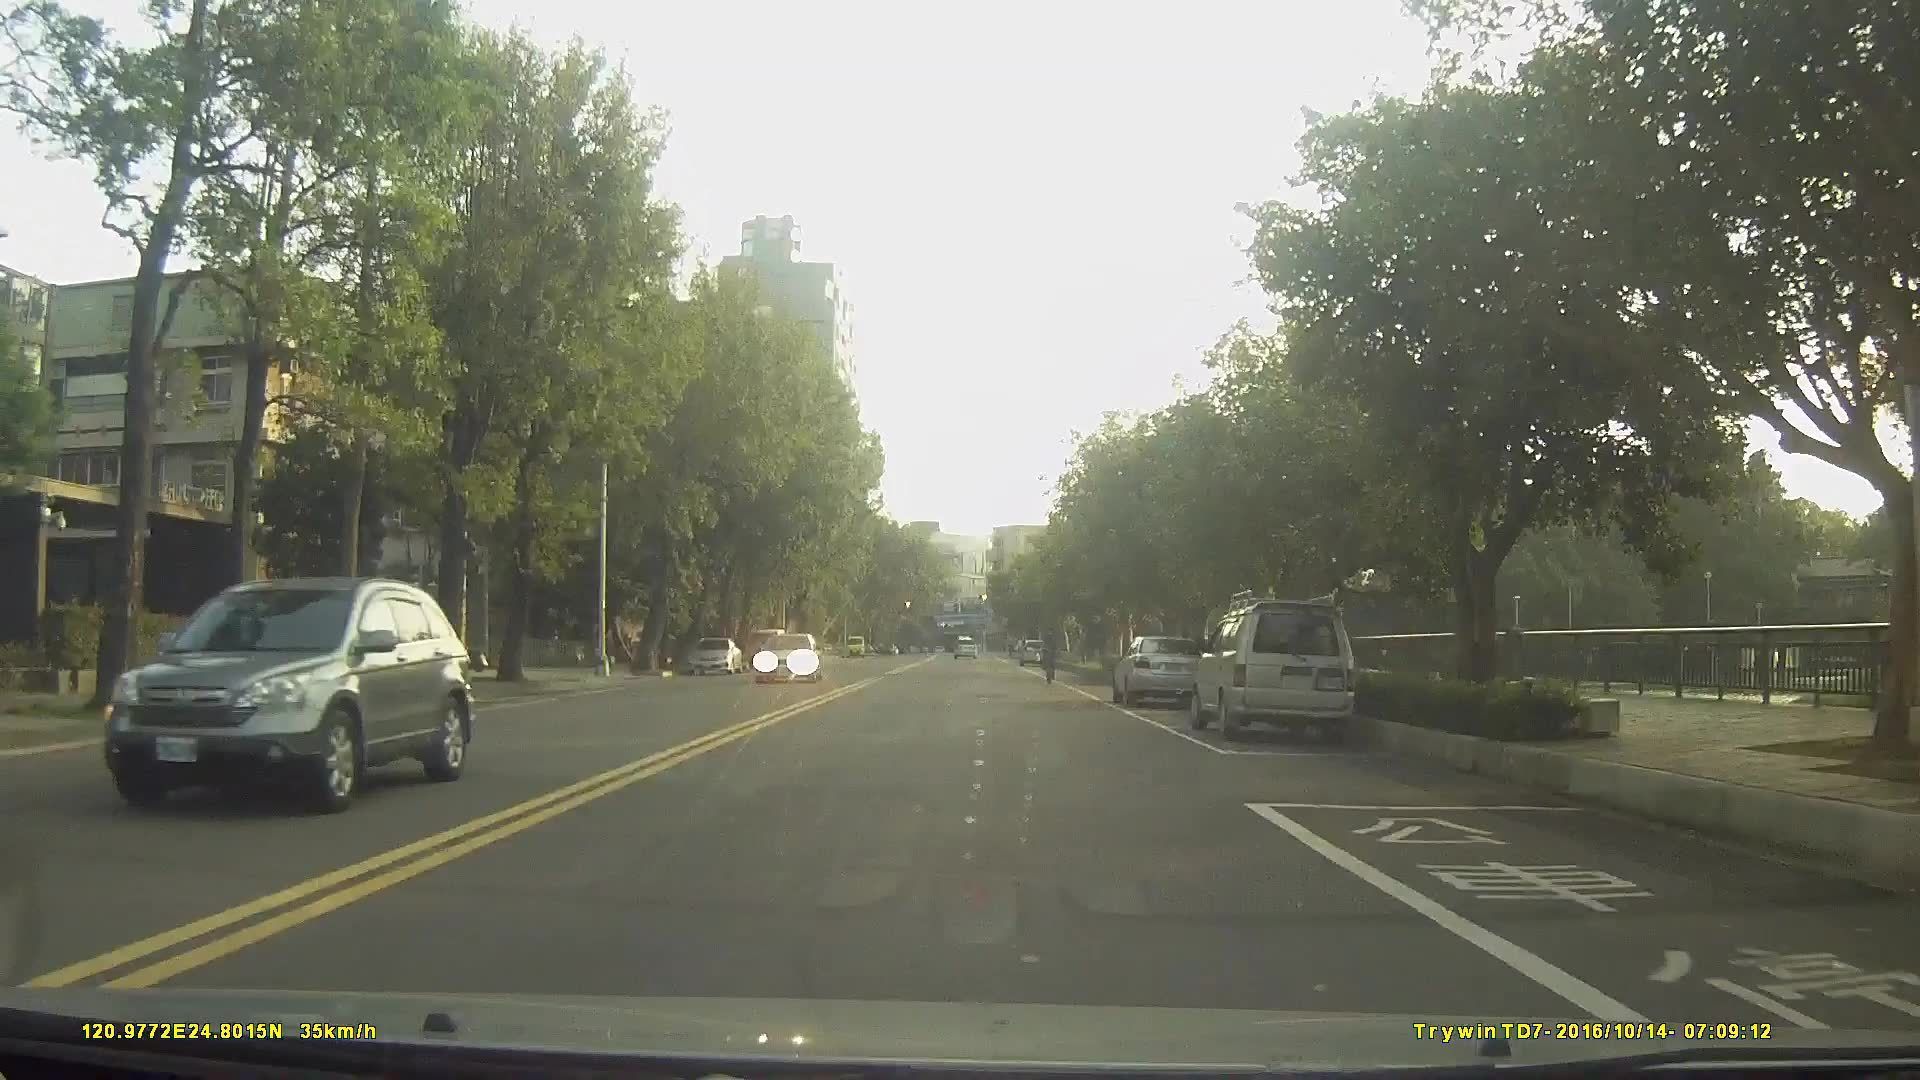rider: (1039, 627, 1060, 689)
vehicle: (98, 573, 471, 819), (1188, 599, 1358, 738), (1108, 632, 1208, 708), (753, 629, 821, 683), (686, 633, 743, 674), (744, 630, 787, 671), (1018, 638, 1048, 669), (949, 634, 977, 660)
